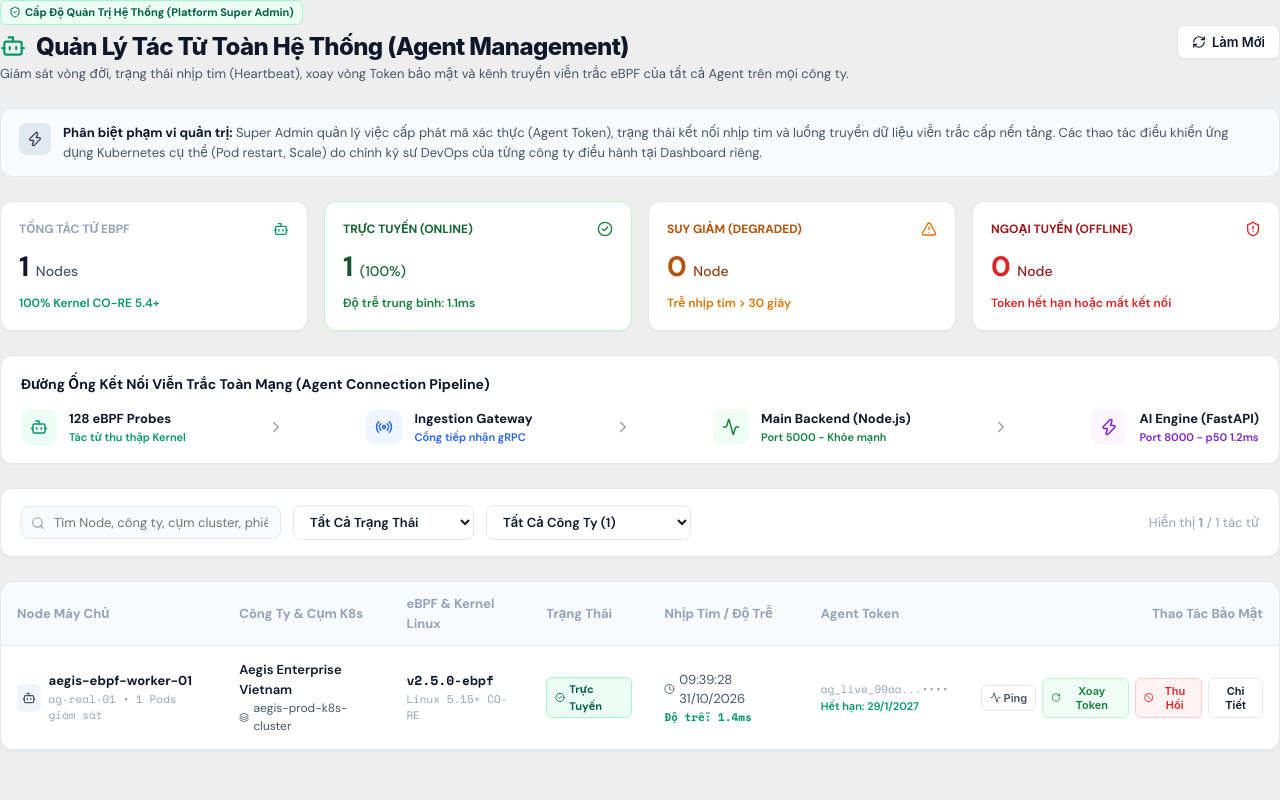
Test: Admin UI, Cluster & Agent Connection Verification Suite › 3. AdminAgentManagementPage (/admin/agents) Real API Connection & Token Lifecycle › 3.2. Revokes agent connection via agentService.revokeAgentAdmin and updates UI status to OFFLINE
The image size is (1280, 800).
Expected: the text "aegis-ebpf-worker-01" is shown, [49, 672, 207, 691]
Click the button "Thu Hồi".
click(1168, 698)  # box [1134, 678, 1202, 718]
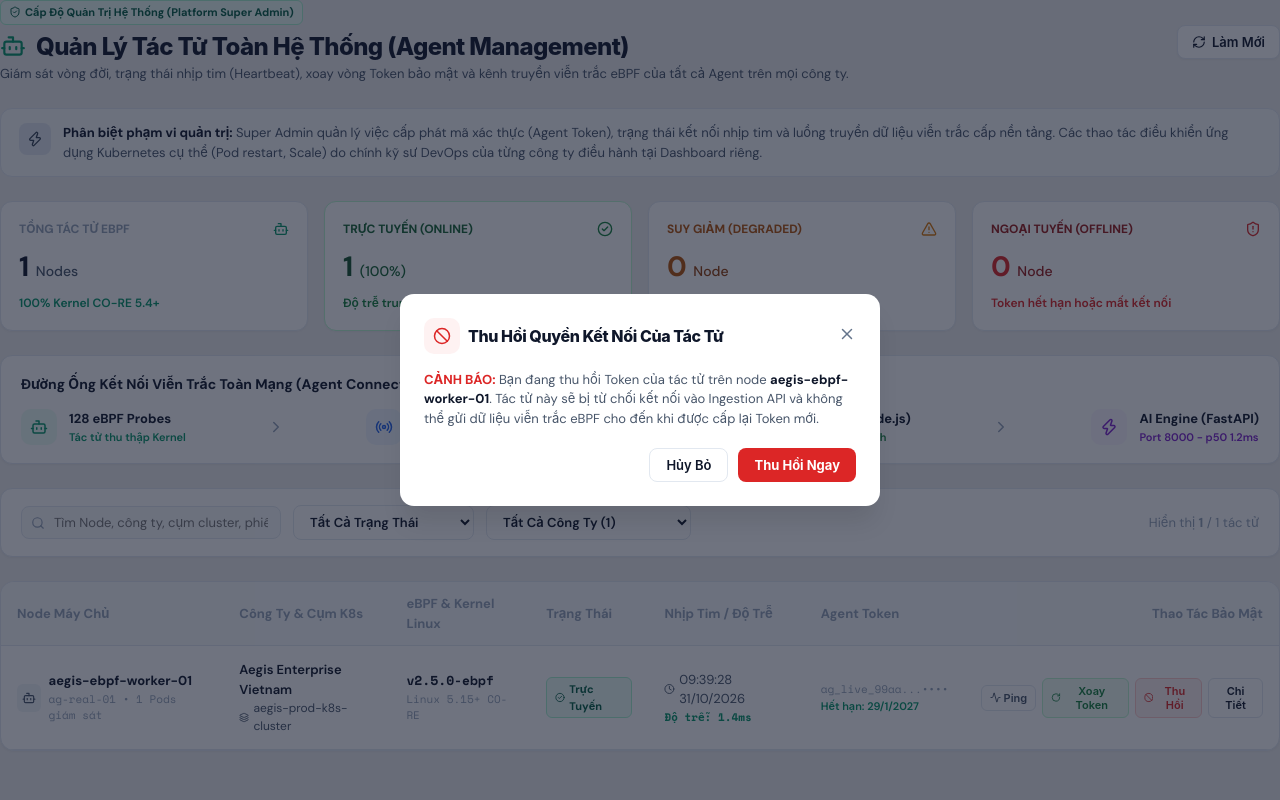
Expected: the heading "Thu Hồi Quyền Kết Nối Của Tác Tử" is shown, [468, 326, 724, 345]
Click the button "Thu Hồi Ngay".
click(797, 465)  # box [738, 448, 856, 482]
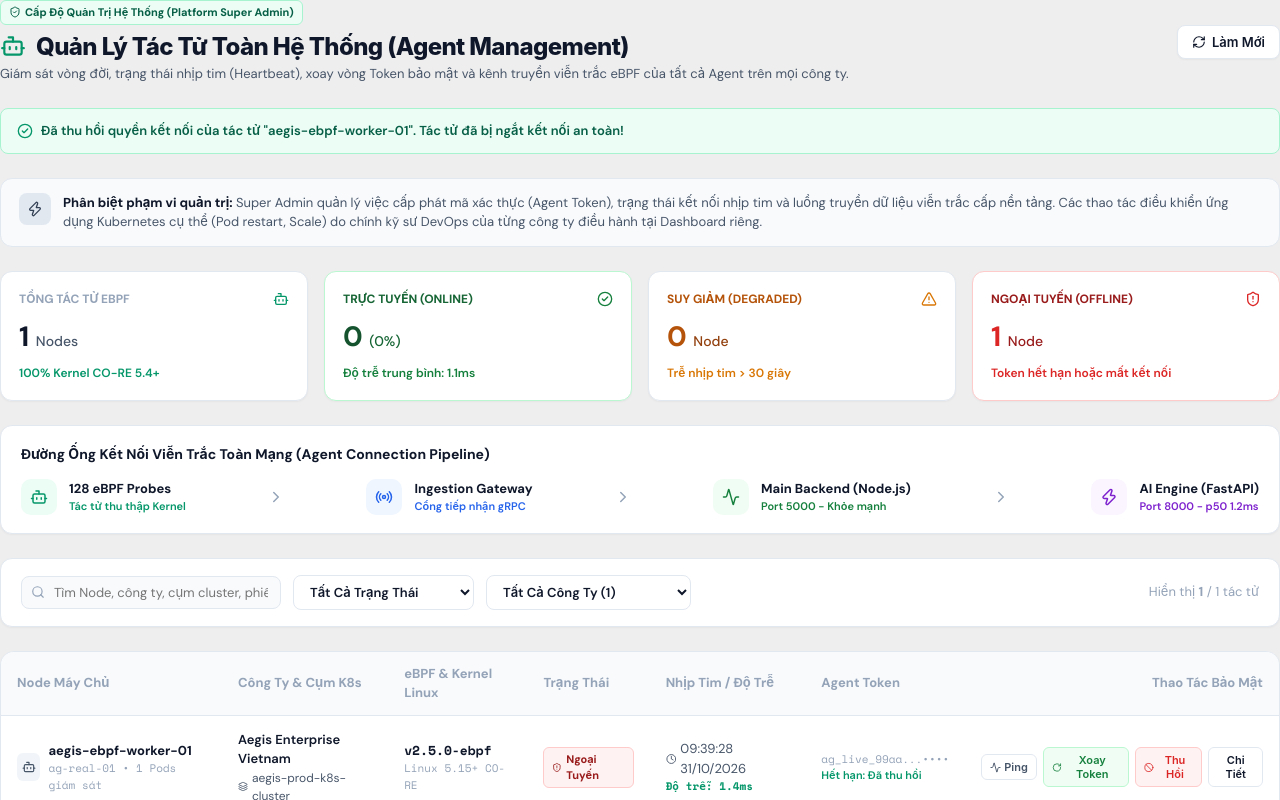
Expected: the text "Hết hạn: Đã thu hồi" is shown, [821, 768, 922, 782]
